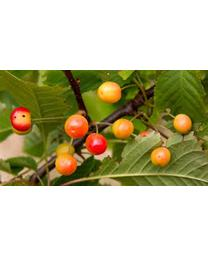cherry: (64, 114, 87, 138), (98, 81, 122, 104), (55, 153, 77, 176), (11, 107, 32, 130), (86, 133, 108, 154), (111, 120, 135, 139), (151, 147, 170, 167), (174, 114, 192, 133)
